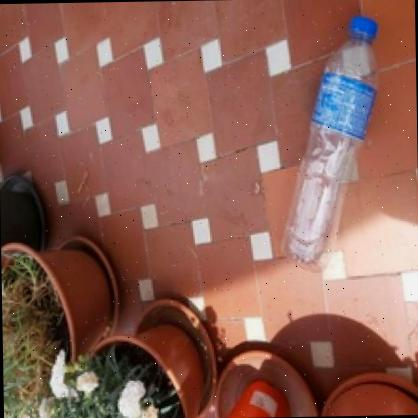bottle: (272, 9, 390, 276)
cap: (345, 14, 384, 40)
label: (298, 76, 380, 137)
